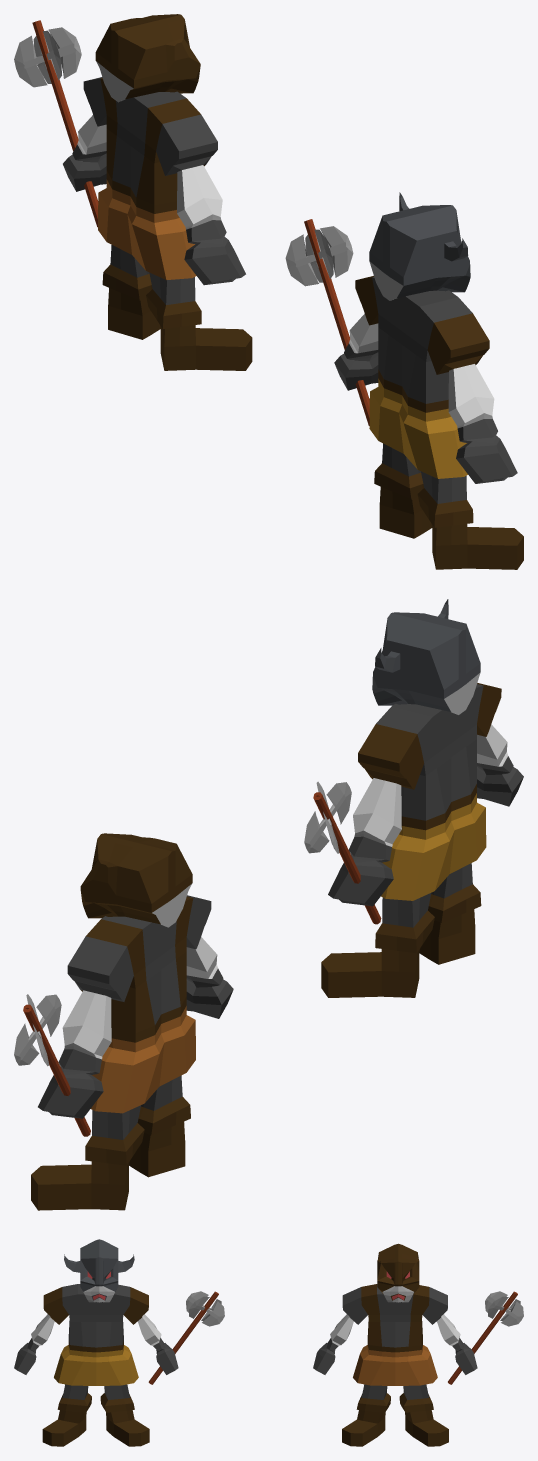
The model's file is Barbarian.fbx.
3 renders of one model, top to bottom at view 1: azimuth 30°, elevation 25°; view 2: azimuth 150°, elevation 25°; view 3: azimuth 270°, elevation 25°, orthographic. The views are drawn at different scales.
Visible parts, largest first — view 1: Cube.001, Cube.003; view 2: Cube.001, Cube.003; view 3: Cube.001, Cube.003.
Boxes of the visible parts, x1,y1,x2,y2 form: Cube.001: (285,192,523,569); Cube.003: (14,14,252,370); Cube.001: (304,599,523,997); Cube.003: (14,833,233,1210); Cube.001: (14,1239,224,1446); Cube.003: (313,1243,523,1446).
Bounding box in the file's own units: 201 × 664 × 1688.
